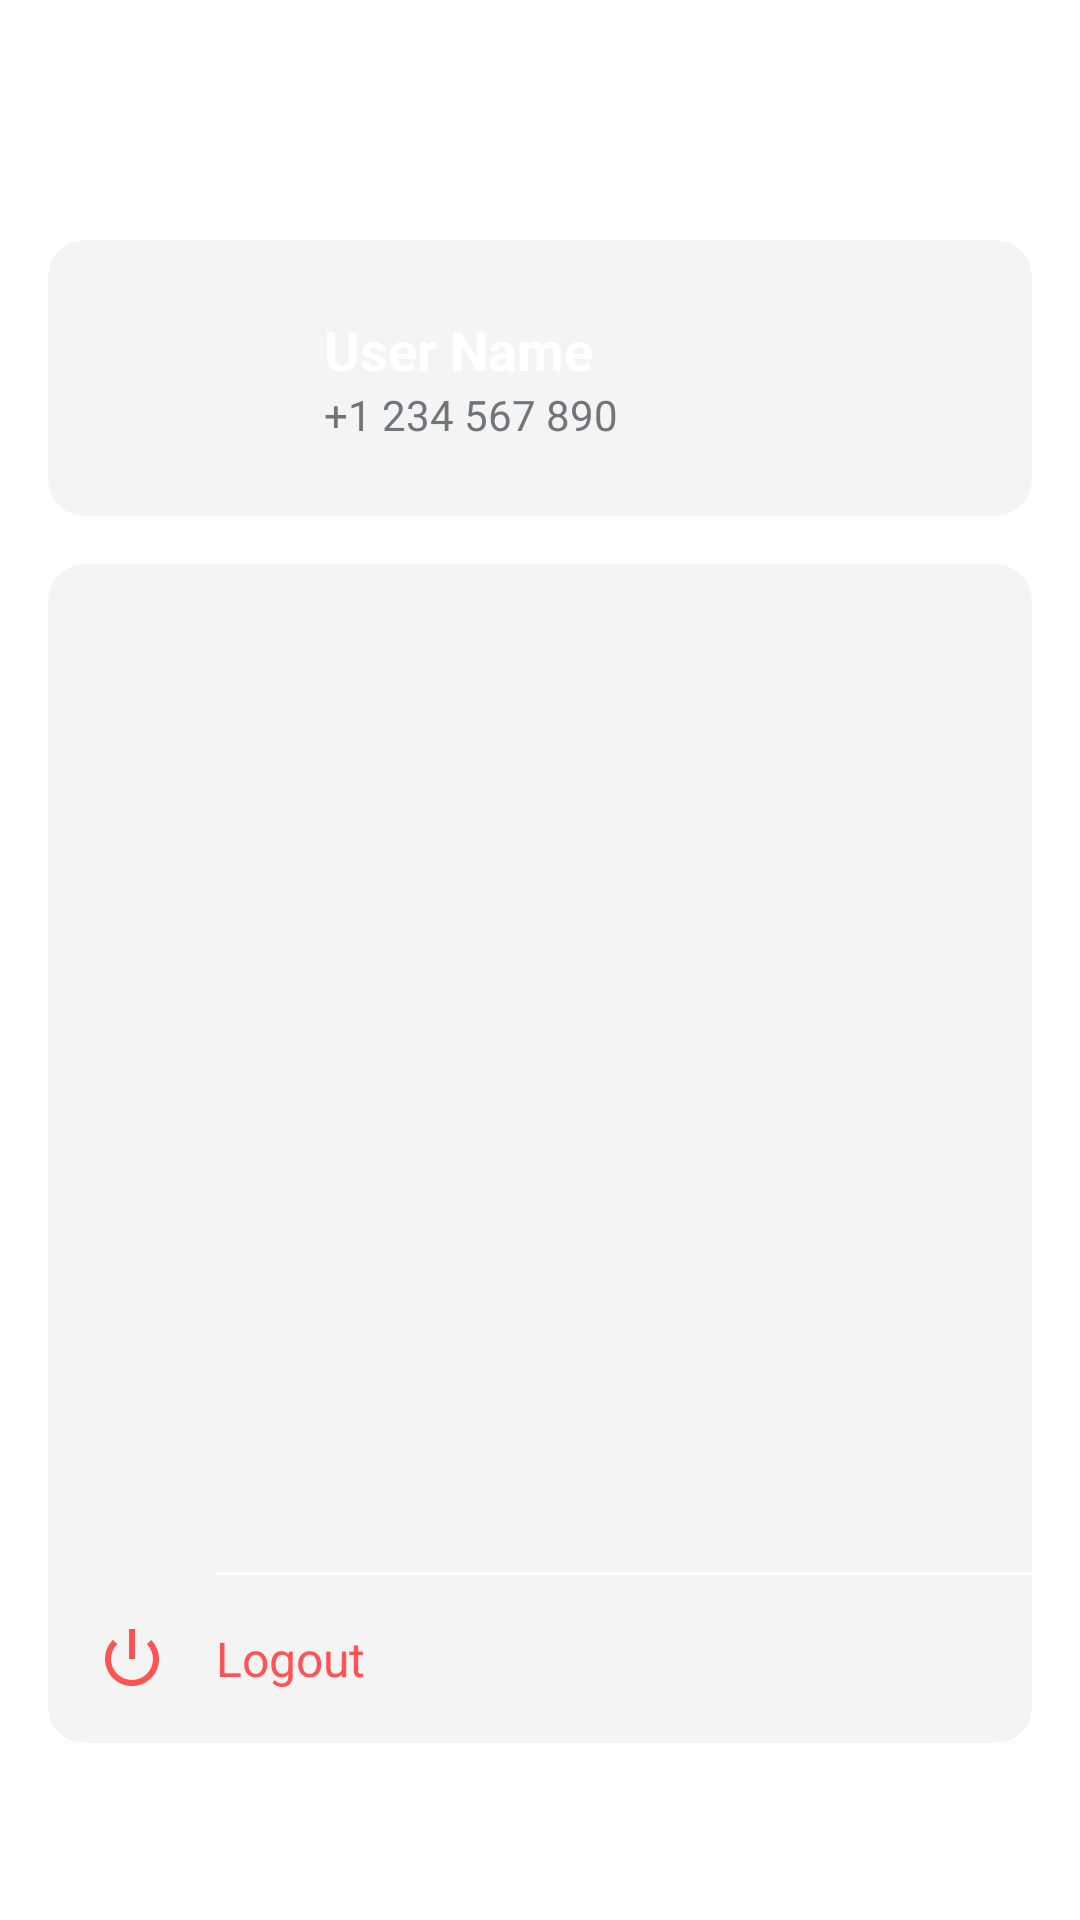

Icons on this 1080×1920 Android screen, each with its box as region(x1, y1, x2, y2):
lock power off: region(105, 1629, 159, 1686)
